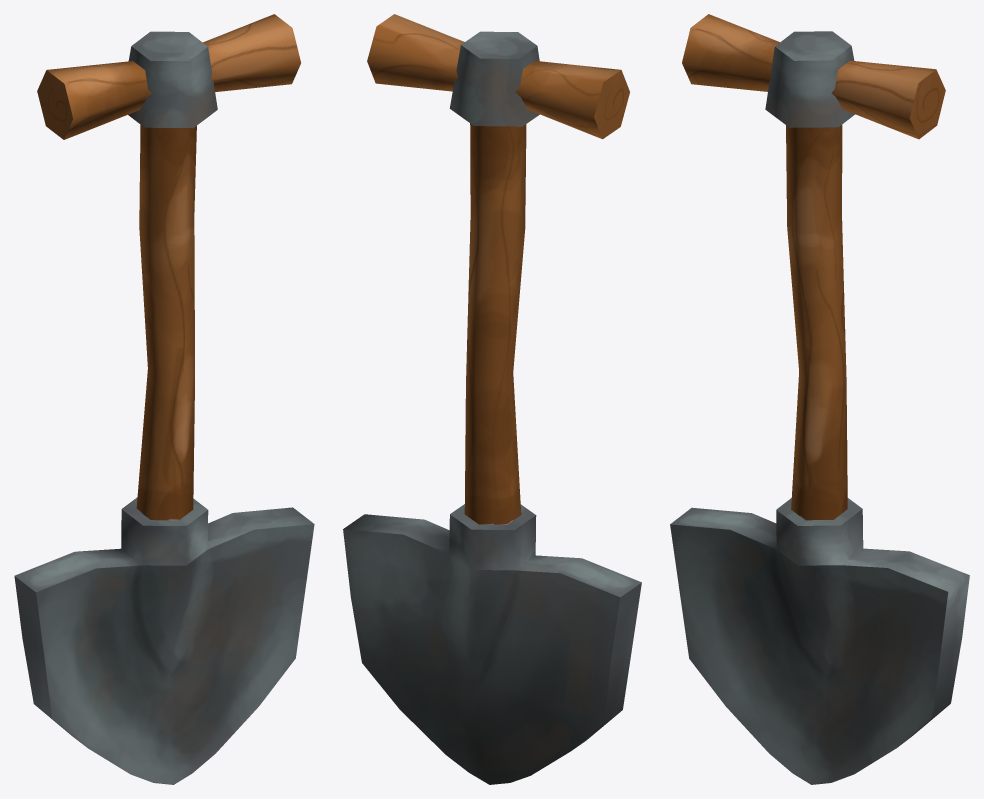
The model's file is kurek_1.fbx.
3 views of the same model, side by side, from view 1: azimuth 30°, elevation 25°; view 2: azimuth 150°, elevation 25°; view 3: azimuth 330°, elevation 25° (orthographic).
Parts seen in each view (by area): view 1: shovel; view 2: shovel; view 3: shovel.
Part boxes in pixels (x1=…): shovel: x1=14, y1=14, x2=314, y2=784; shovel: x1=343, y1=14, x2=641, y2=784; shovel: x1=670, y1=14, x2=969, y2=784.
Bounding box in the file's own units: 46.51 × 118 × 14.83.
